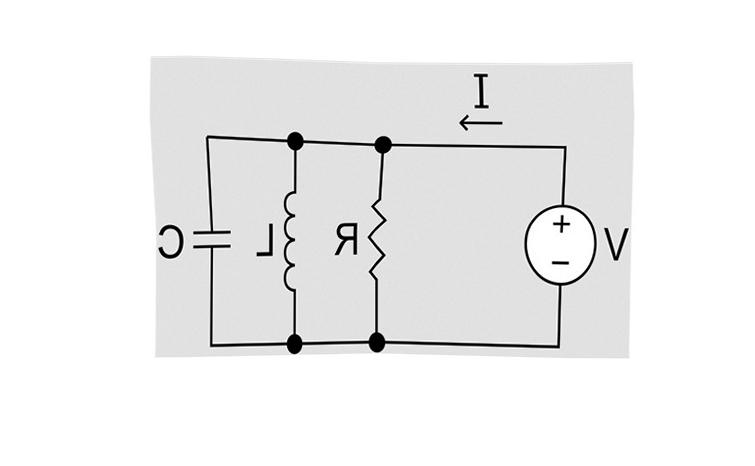Battery: (509, 178, 608, 308)
